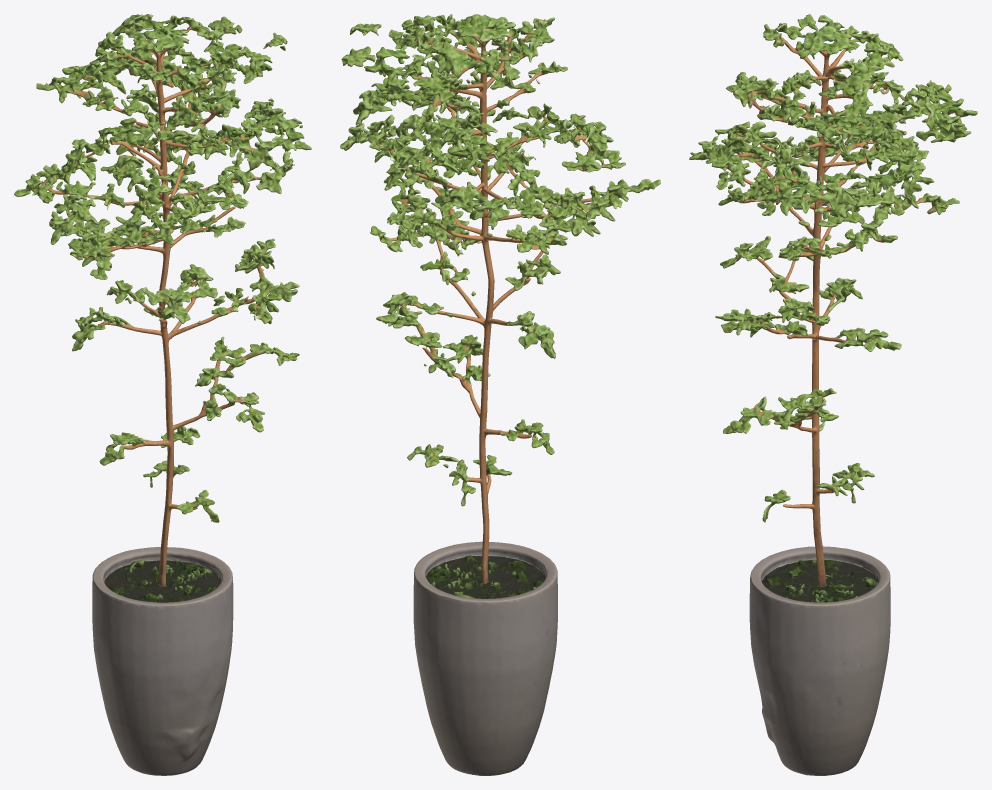
File: Miscellaneous [YH5_zQ].glb
The picture shows the model from 3 angles, left to right: view 1: azimuth 30°, elevation 25°; view 2: azimuth 150°, elevation 25°; view 3: azimuth 270°, elevation 25°; orthographic projection. The views are drawn at different scales.
Visible parts, largest first — view 1: world; view 2: world; view 3: world.
Boxes of the visible parts, <box> form: world: <box>14,14,311,775</box>; world: <box>340,14,660,775</box>; world: <box>689,14,977,775</box>.
Bounding box in the file's own units: 0.3744 × 1 × 0.3589.
Materials: 1 (1 with a texture image).
